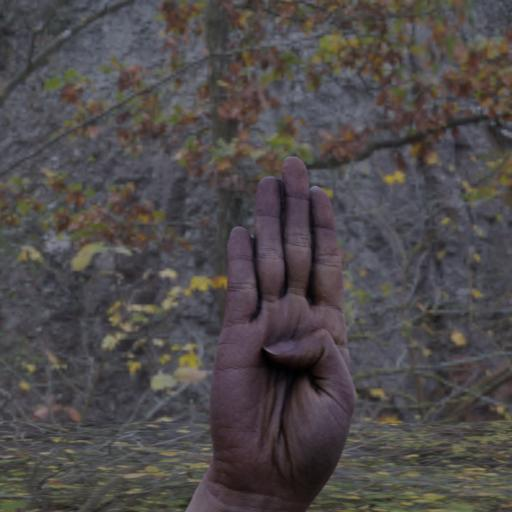B: (192, 143, 376, 512)
